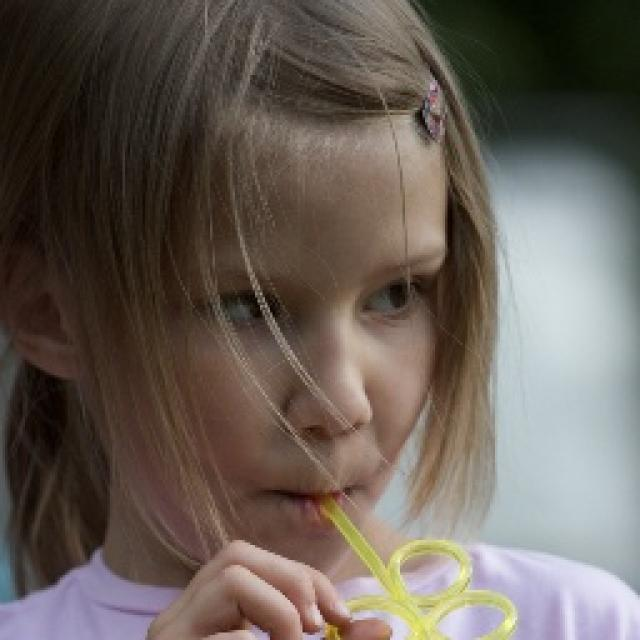earlobe: (47, 338, 94, 383)
eye: (201, 286, 280, 328), (354, 280, 427, 318)
nose: (288, 426, 367, 470)
wholeear: (0, 235, 94, 383)
